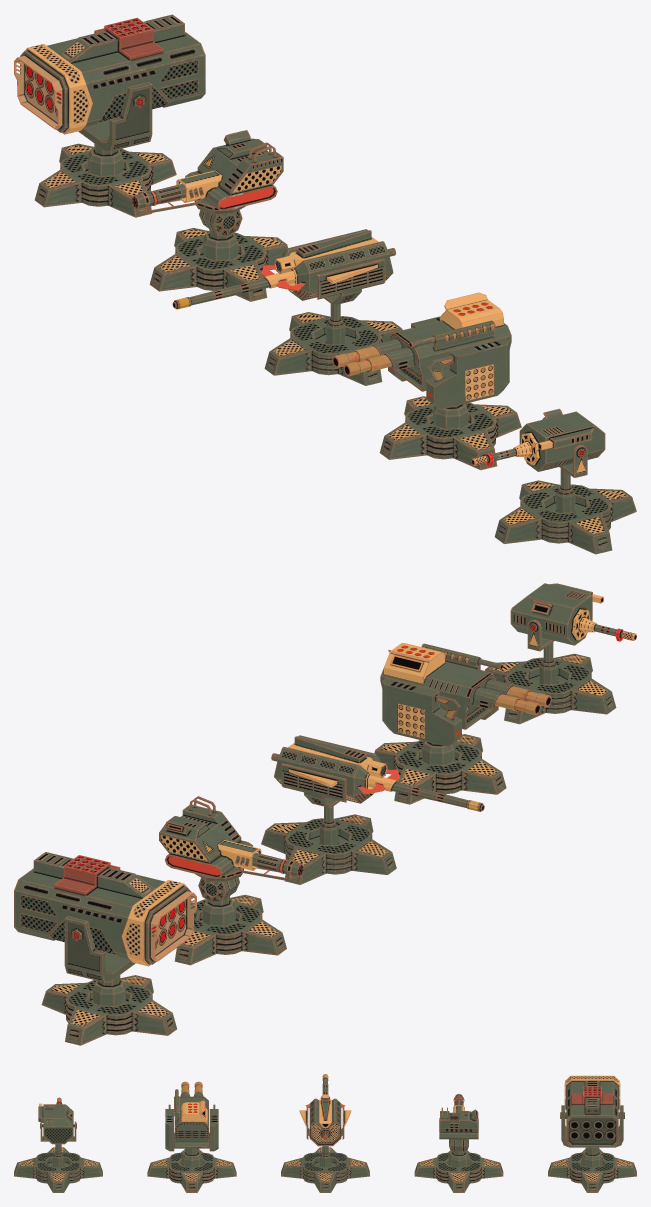
Rendered from sentries.glb.
3 renders of one model, top to bottom at view 1: azimuth 30°, elevation 25°; view 2: azimuth 150°, elevation 25°; view 3: azimuth 270°, elevation 25°, orthographic. The views are drawn at different scales.
Parts seen in each view (by area): view 1: low_bottom_2_b2_0, low_turret_5_5_0, low_bottom_1_b1_0, low_turret_2_2_0, low_turret_4_4_0, low_turret_3_3_0, low_turret_1_1_0; view 2: low_bottom_2_b2_0, low_turret_5_5_0, low_bottom_1_b1_0, low_turret_2_2_0, low_turret_4_4_0, low_turret_3_3_0, low_turret_1_1_0; view 3: low_bottom_2_b2_0, low_bottom_1_b1_0, low_turret_5_5_0, low_turret_2_2_0, low_turret_3_3_0, low_turret_4_4_0, low_turret_1_1_0.
Part boxes in pixels (x1,y1,x2,y2): low_bottom_2_b2_0: [34, 143, 521, 470]; low_turret_5_5_0: [14, 14, 205, 151]; low_bottom_1_b1_0: [264, 304, 636, 554]; low_turret_2_2_0: [332, 292, 511, 409]; low_turret_4_4_0: [131, 130, 283, 236]; low_turret_3_3_0: [172, 229, 395, 309]; low_turret_1_1_0: [471, 408, 605, 477]; low_bottom_2_b2_0: [41, 734, 506, 1045]; low_turret_5_5_0: [14, 852, 196, 982]; low_bottom_1_b1_0: [261, 642, 616, 884]; low_turret_2_2_0: [380, 643, 551, 746]; low_turret_4_4_0: [159, 796, 303, 903]; low_turret_3_3_0: [271, 735, 484, 811]; low_turret_1_1_0: [510, 583, 636, 651]; low_bottom_2_b2_0: [147, 1147, 636, 1192]; low_bottom_1_b1_0: [14, 1144, 369, 1192]; low_turret_5_5_0: [560, 1075, 624, 1147]; low_turret_2_2_0: [165, 1081, 218, 1151]; low_turret_3_3_0: [299, 1074, 351, 1146]; low_turret_4_4_0: [439, 1094, 478, 1151]; low_turret_1_1_0: [38, 1097, 76, 1144].
Size of the model in its own units: 3.6 by 2.22 by 14.
Materials: 7 (7 with a texture image).
